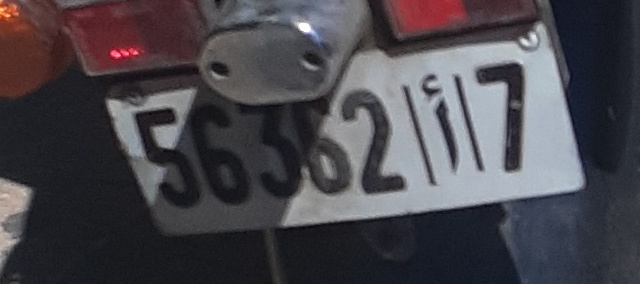2: (339, 86, 402, 196)
3: (252, 96, 305, 201)
5: (124, 99, 208, 212)
6: (193, 101, 252, 207), (299, 95, 354, 199)
7: (475, 57, 538, 180)
a: (417, 66, 476, 181)
